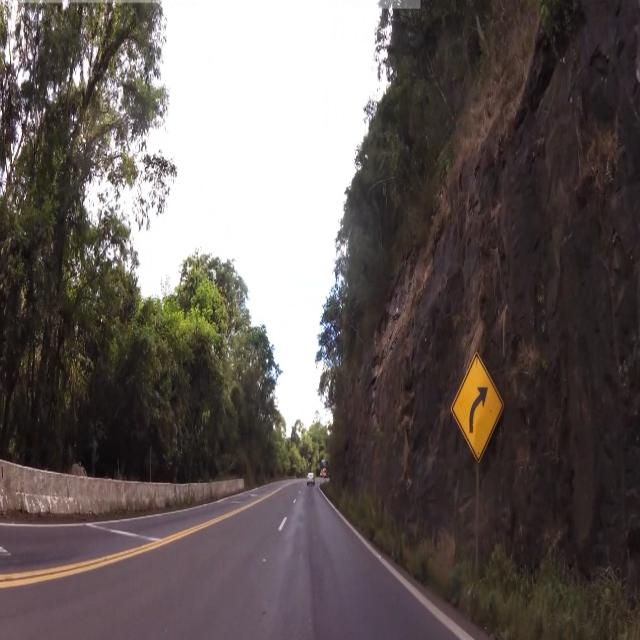A-2b: (444, 344, 514, 470)
